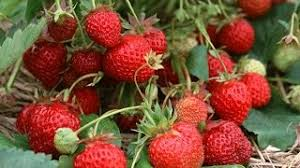ripe: (15, 100, 81, 153), (192, 115, 254, 167), (104, 31, 158, 85), (146, 120, 204, 167), (21, 37, 66, 90), (70, 132, 130, 168), (209, 74, 252, 118), (81, 11, 123, 49), (215, 14, 253, 55), (229, 72, 272, 108), (129, 20, 171, 53), (198, 43, 234, 80), (173, 91, 210, 126), (70, 47, 104, 79), (70, 84, 101, 115), (47, 14, 79, 43)
unripe: (271, 38, 299, 73), (237, 56, 266, 82), (54, 126, 79, 156)
